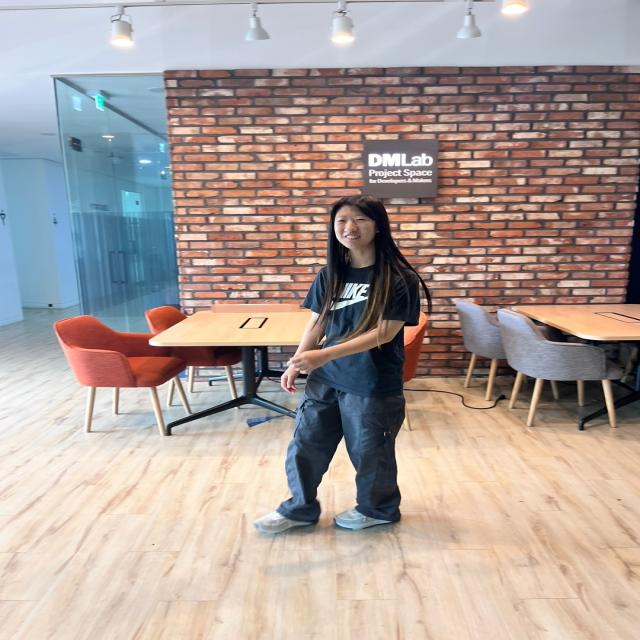not_lay: (255, 196, 428, 538)
